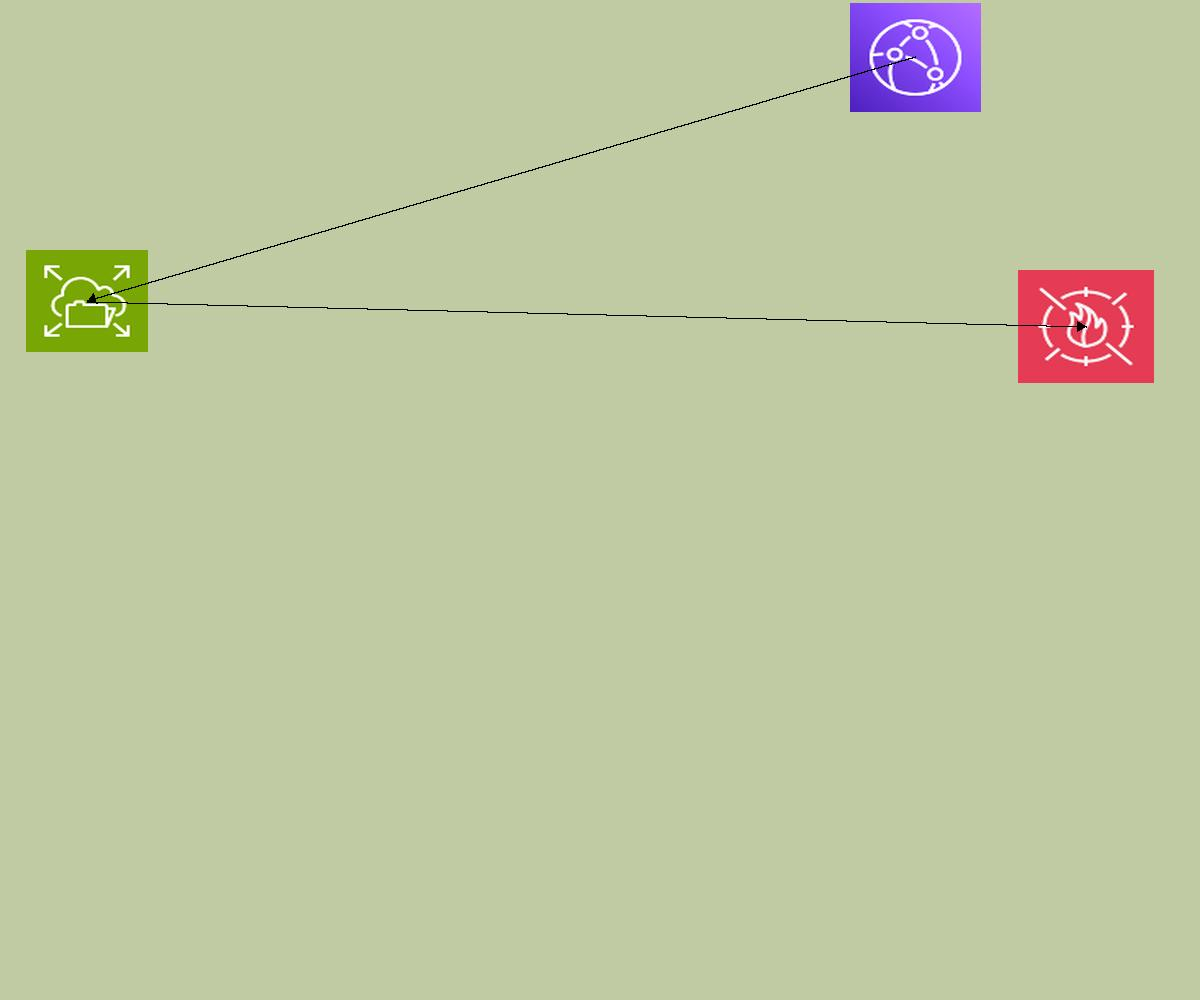AWS-CloudFront: (850, 3, 981, 112)
AWS-EFS: (26, 250, 148, 352)
AWS-WAF: (1018, 270, 1154, 383)
